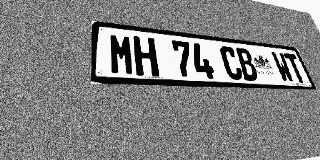4: (189, 42, 216, 79)
7: (170, 40, 196, 78)
B: (234, 47, 260, 81)
C: (219, 46, 244, 80)
H: (133, 36, 159, 77)
M: (109, 33, 135, 76)
T: (283, 53, 308, 83)
W: (271, 52, 295, 82)
